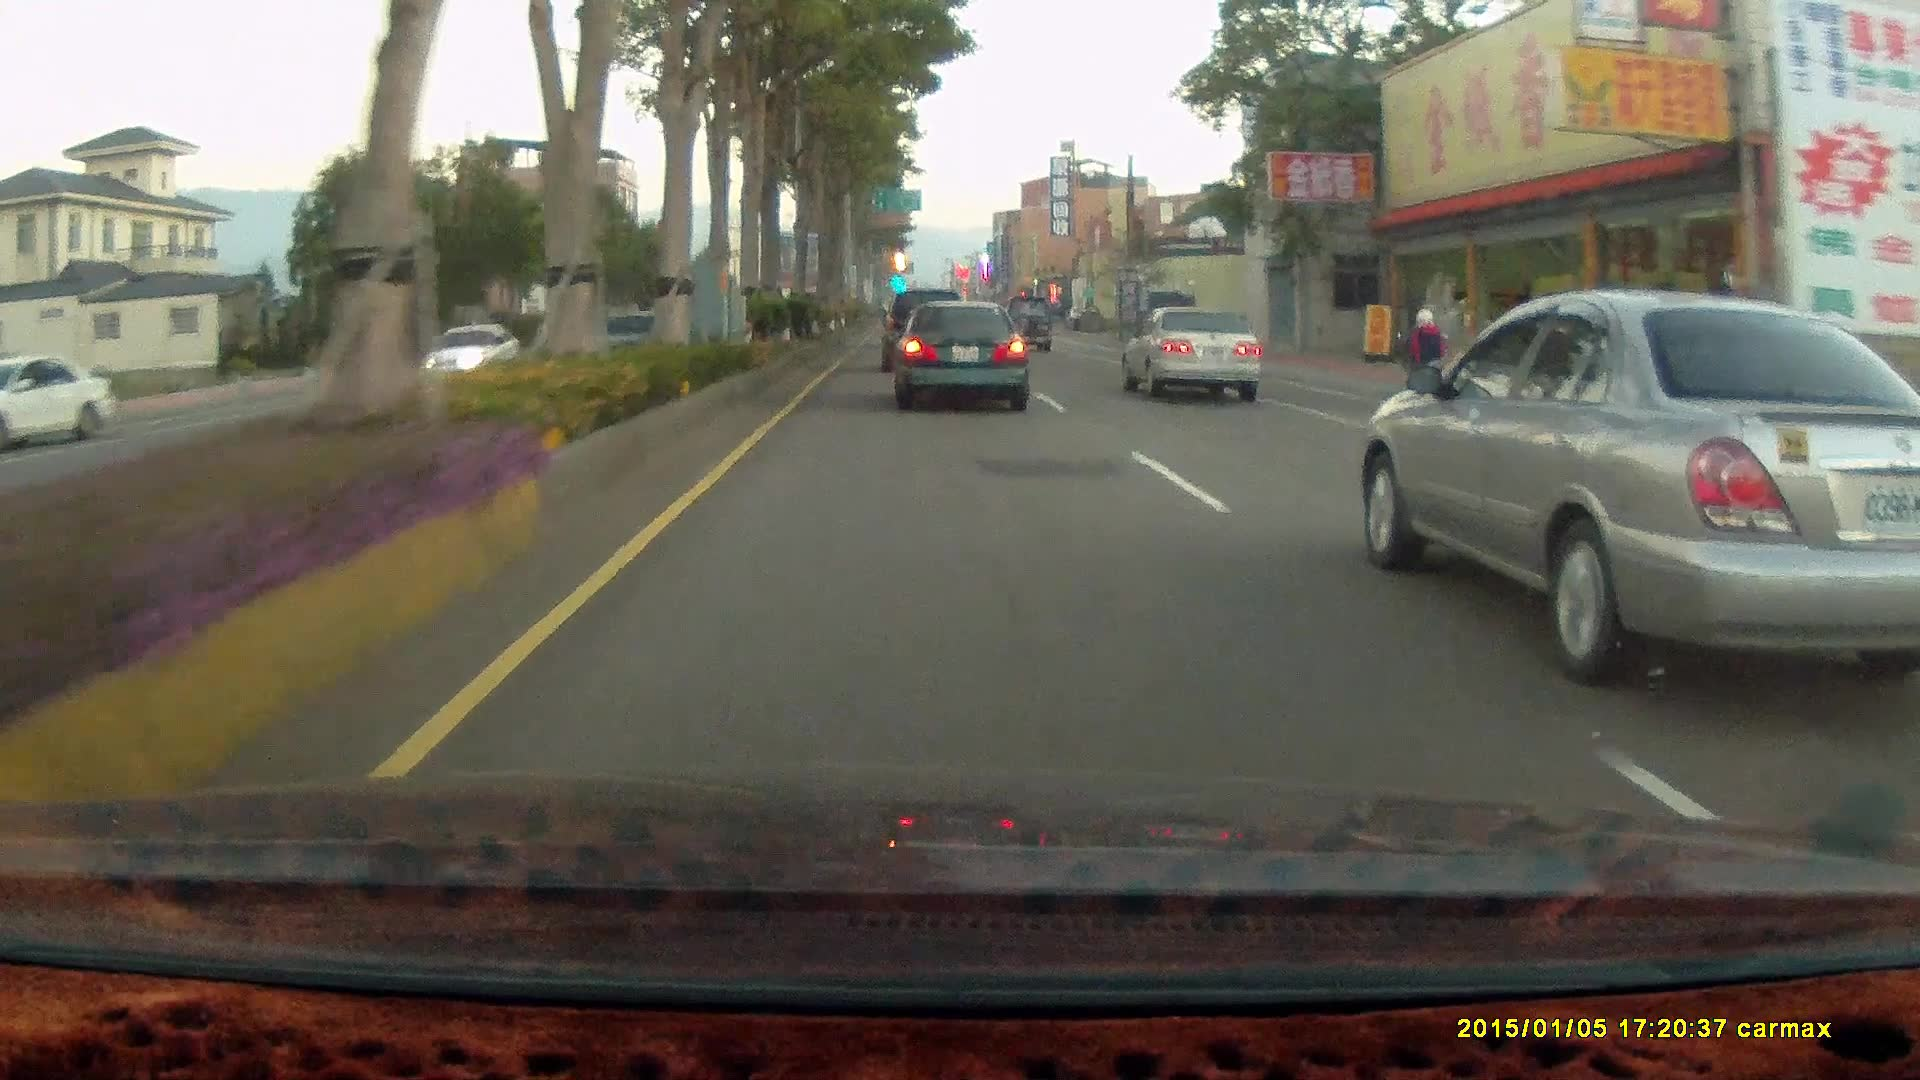rider: (1387, 295, 1467, 436), (1397, 305, 1457, 414)
vehicle: (1350, 289, 1920, 656), (891, 299, 1035, 417), (889, 298, 1029, 410), (1120, 307, 1270, 409), (1118, 301, 1261, 399), (1, 355, 117, 448), (1, 356, 119, 449), (883, 286, 970, 373), (882, 288, 965, 373), (415, 321, 525, 385), (414, 317, 526, 374), (1138, 289, 1198, 347), (1003, 296, 1053, 357)
